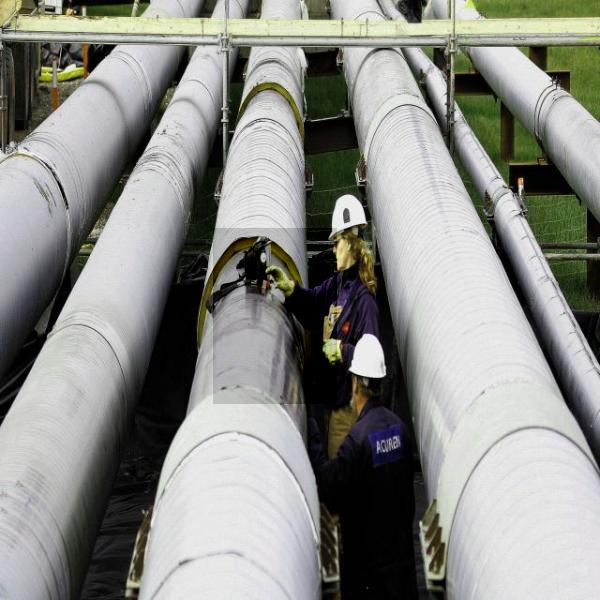crack: (213, 228, 337, 404)
